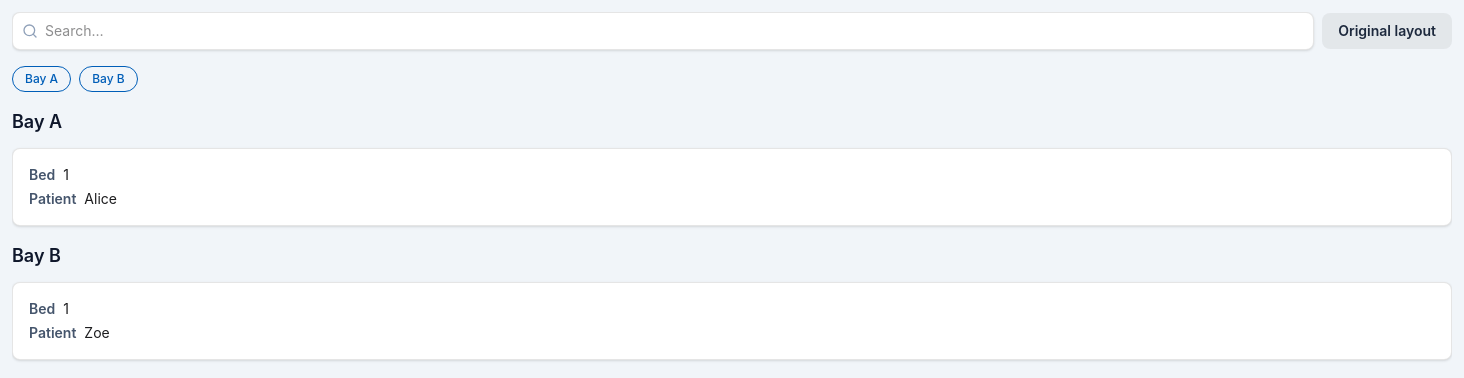
MobileView jump-to index filtering › drops jump-to links for sections hidden by an active search
Type "Alice" into the search field at point(663, 31), box [12,12,1314,50]
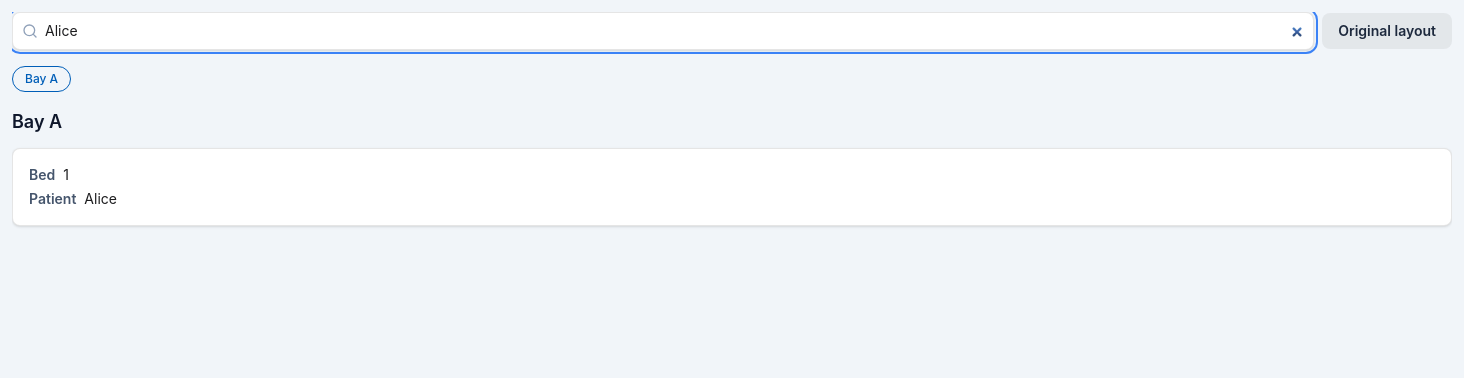
Expected: the link "Bay A" is shown, [12,66,71,92]
Expected: the link "Bay B" is gone
Expected: the text "Zoe" is gone
